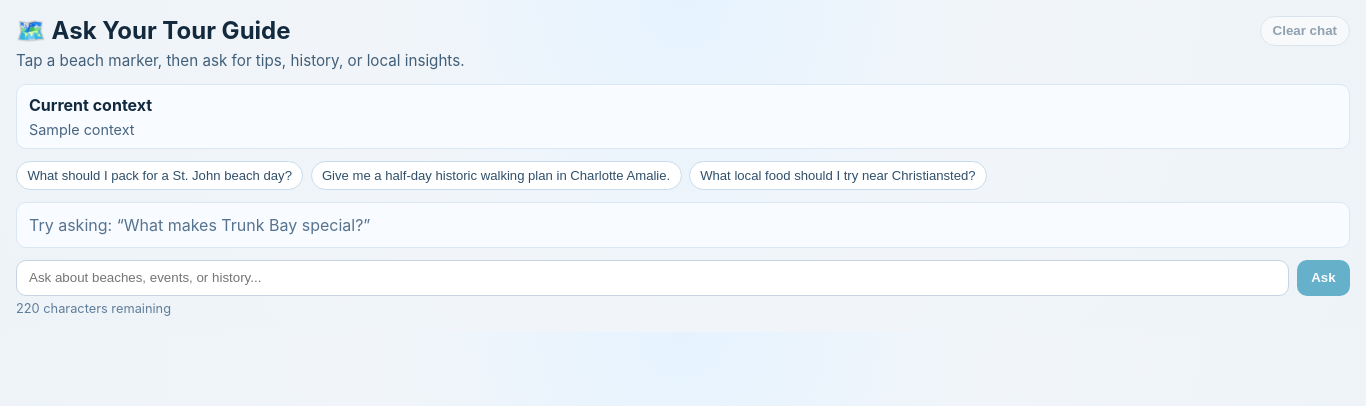
Test: sends question and can clear chat
Type "Best snorkeling beach?" into the field named "ask the tour guide" at (652, 278), box [16,260,1289,296]
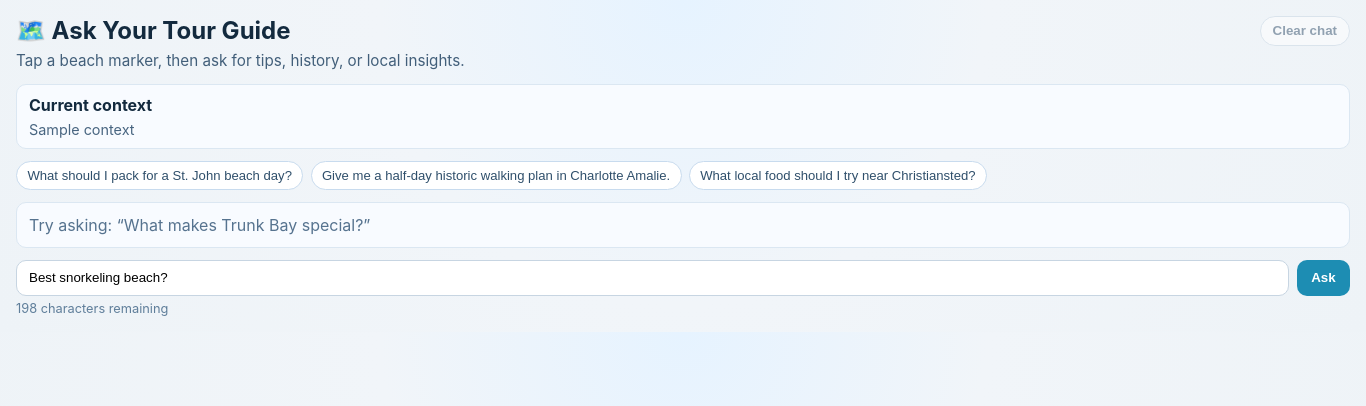
Click the button "Ask" at (1323, 278), box [1297,260,1350,296]
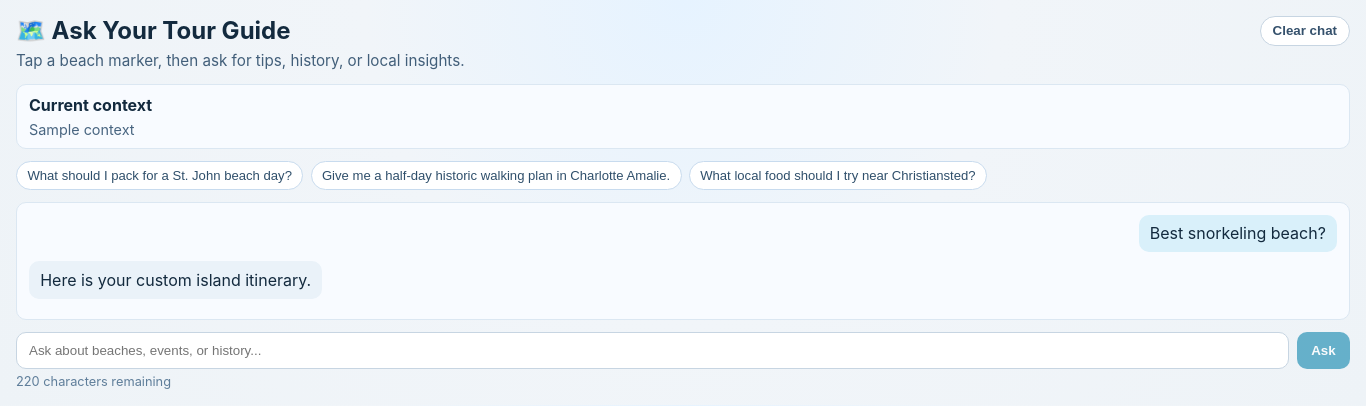
Check: the text "Here is your custom island itinerary." is shown, box [29,261,322,298]
Click the button "Clear chat" at (1305, 31), box [1260,16,1350,46]
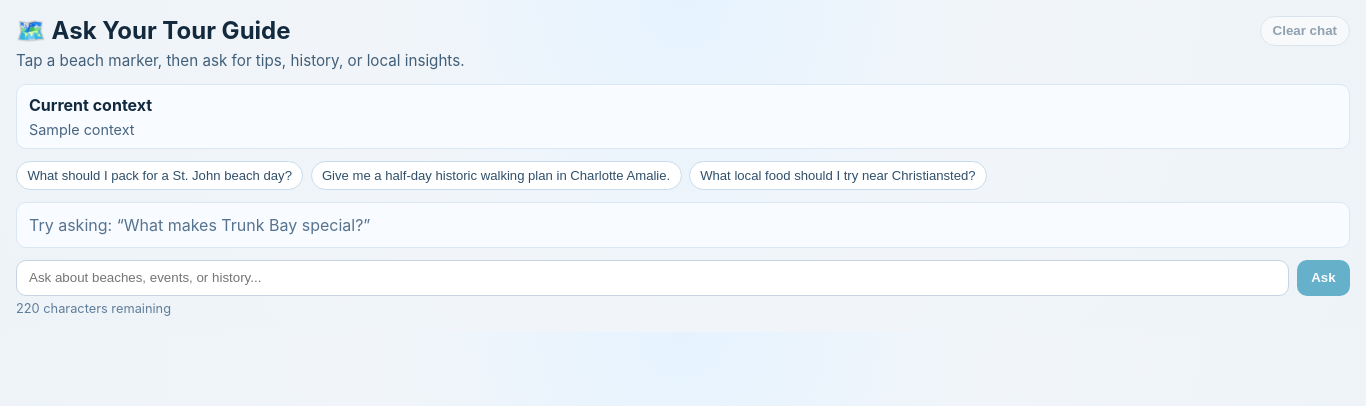
Check: the text "Try asking: “What makes Trunk Bay special?”" is shown, box [29,214,370,234]
